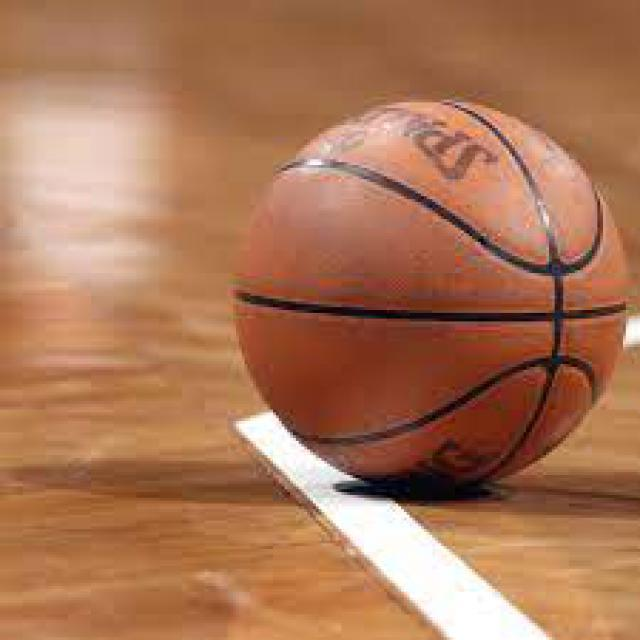basketball: (235, 100, 628, 480)
